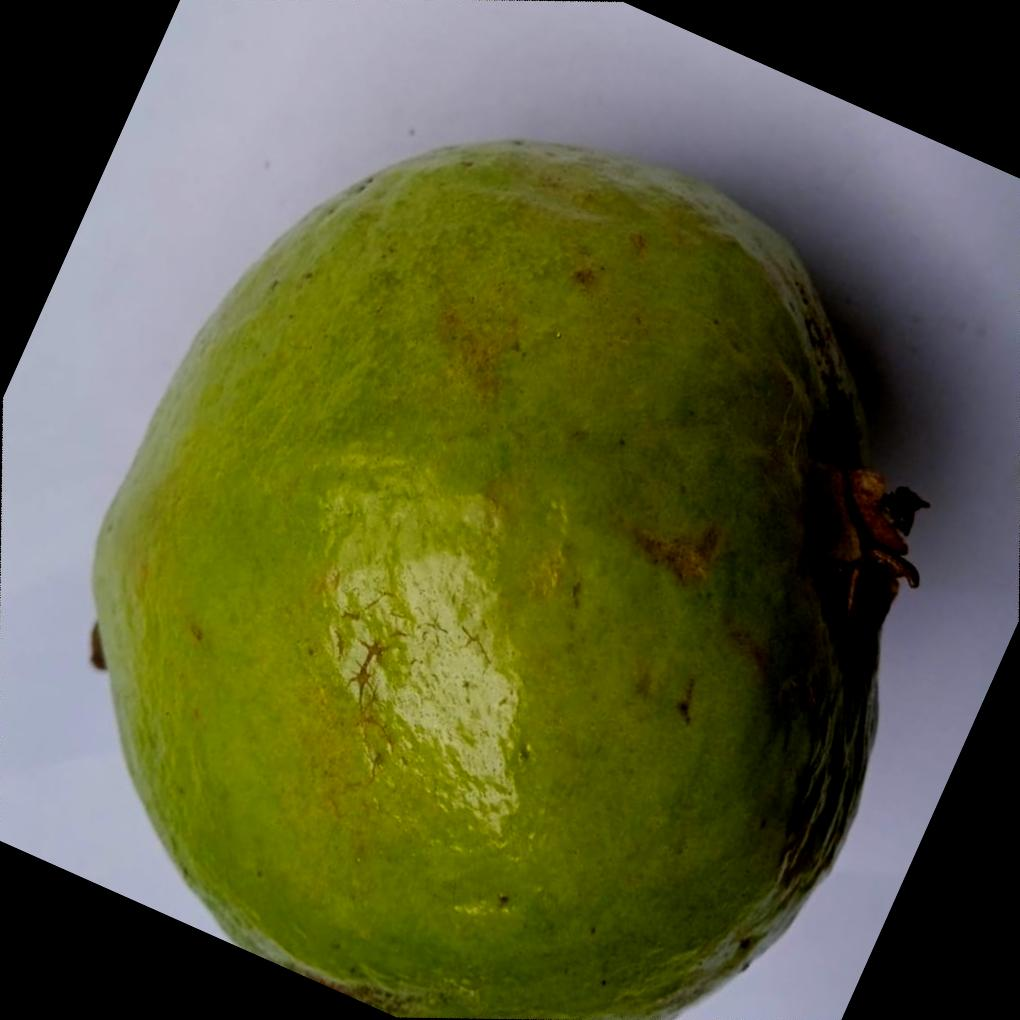FreshGuava: (84, 135, 921, 1020)
